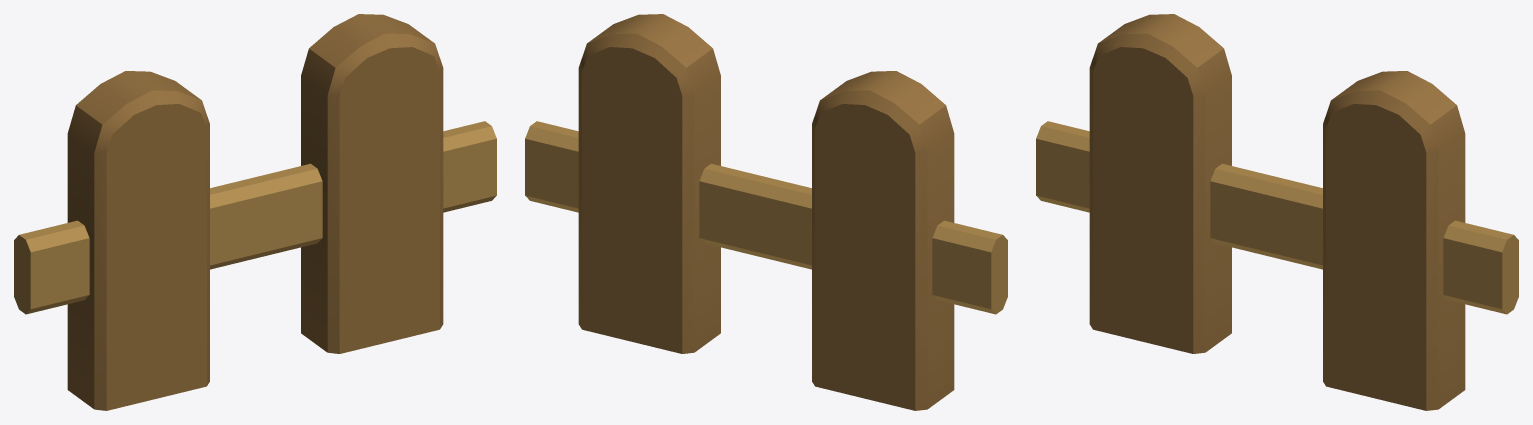
File: quaternius-platformer-game-fence-middle.glb
3 views of the same model, side by side, from view 1: azimuth 30°, elevation 25°; view 2: azimuth 150°, elevation 25°; view 3: azimuth 330°, elevation 25° (orthographic).
Parts seen in each view (by area): view 1: Fence_Middle; view 2: Fence_Middle; view 3: Fence_Middle.
Part boxes in pixels (x1,y1,x2,y2): Fence_Middle: (14,14,496,410); Fence_Middle: (525,14,1007,410); Fence_Middle: (1036,14,1518,410).
Size of the model in its own units: 2 by 1.25 by 0.2644.
